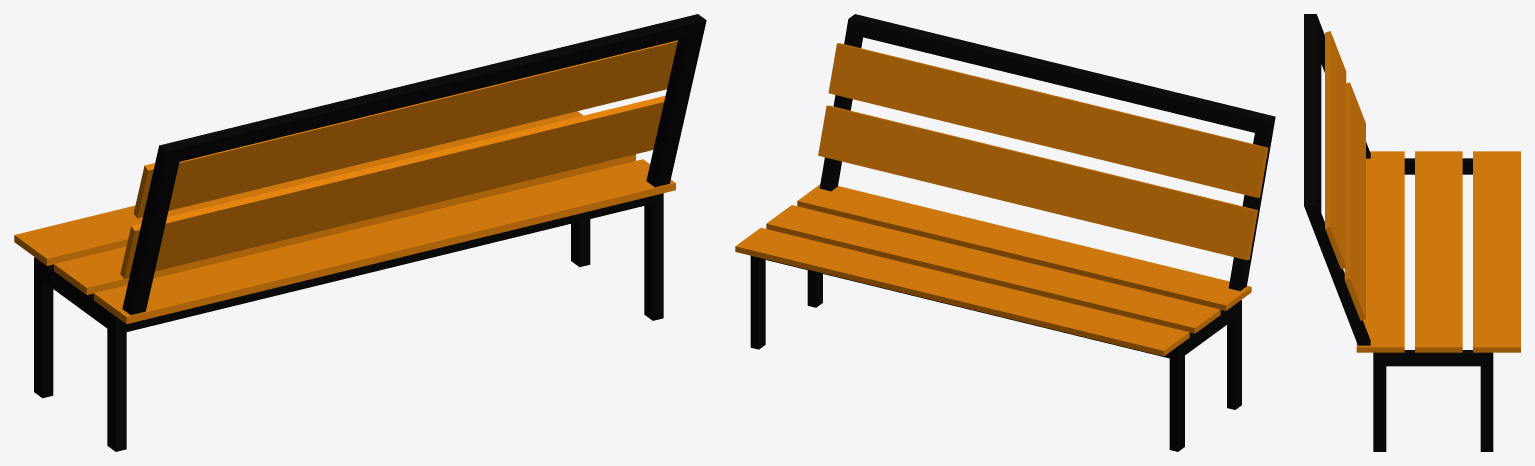
Rendered from bench.fbx.
The picture shows the model from 3 angles, left to right: view 1: azimuth 30°, elevation 25°; view 2: azimuth 150°, elevation 25°; view 3: azimuth 270°, elevation 25°; orthographic projection. The views are drawn at different scales.
Parts seen in each view (by area): view 1: bench; view 2: bench; view 3: bench.
Boxes of the visible parts, <box> form: bench: <box>14,14,706,451</box>; bench: <box>735,14,1275,451</box>; bench: <box>1304,14,1520,451</box>.
Size of the model in its own units: 123 by 71.22 by 57.32.
